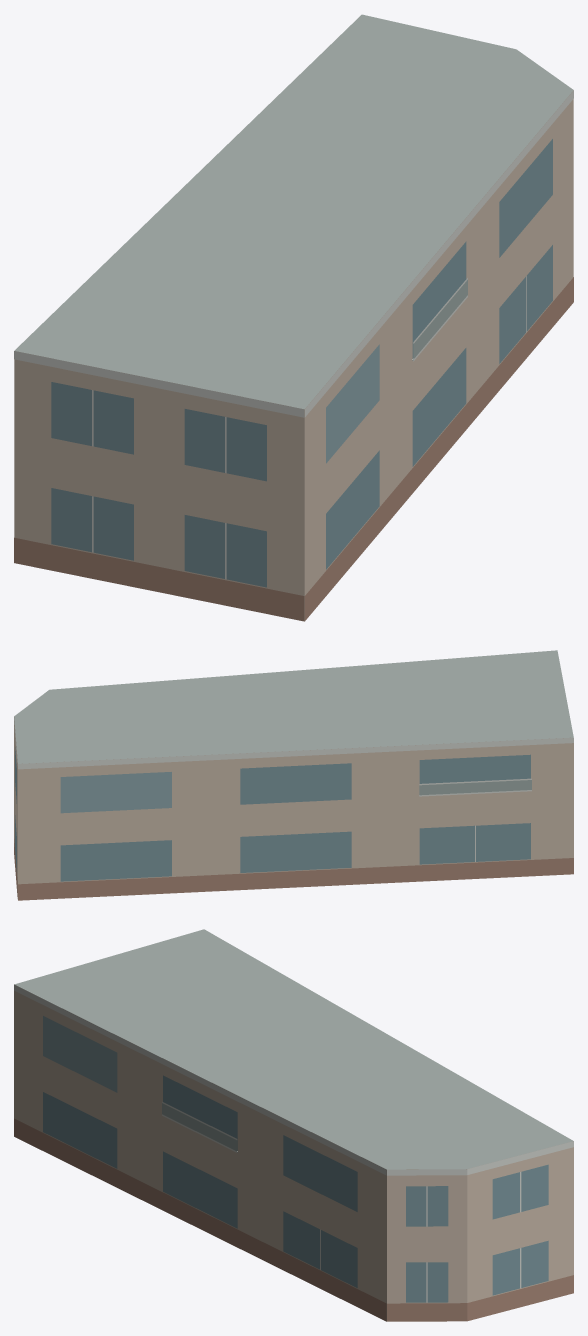
File: survey-upis-32768733.glb
The picture shows the model from 3 angles, top to bottom: view 1: azimuth 30°, elevation 25°; view 2: azimuth 150°, elevation 25°; view 3: azimuth 270°, elevation 25°; orthographic projection. The views are drawn at different scales.
Visible parts, largest first — view 1: survey-upis-32768733.tmp; view 2: survey-upis-32768733.tmp; view 3: survey-upis-32768733.tmp.
Boxes of the visible parts, left/top/right/bottom form: survey-upis-32768733.tmp: left=14, top=14, right=573, bottom=621; survey-upis-32768733.tmp: left=14, top=650, right=573, bottom=900; survey-upis-32768733.tmp: left=14, top=929, right=573, bottom=1321.
Bounding box in the file's own units: 20.68 × 6.1 × 20.35.
